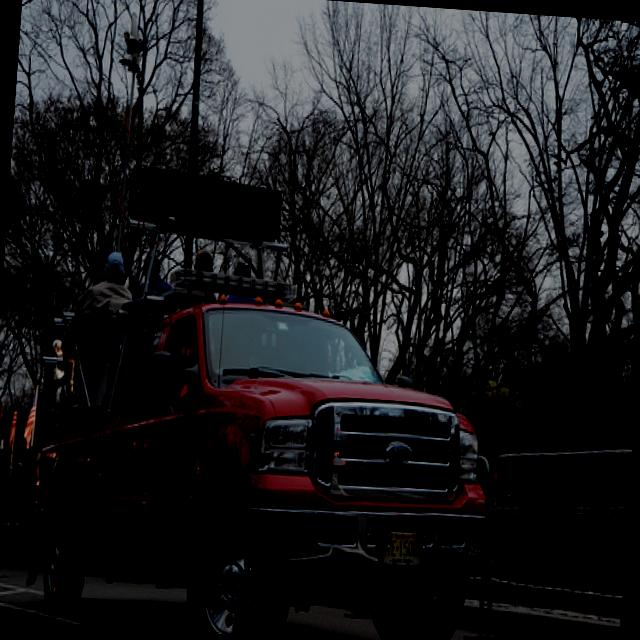Vehicle: (22, 254, 504, 640)
